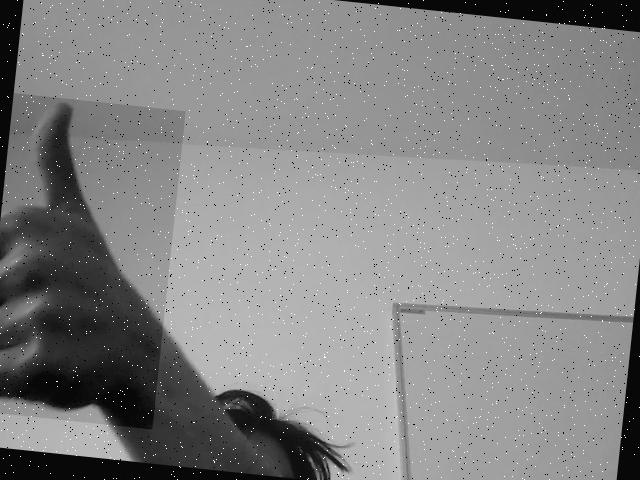good: (0, 99, 155, 411)
